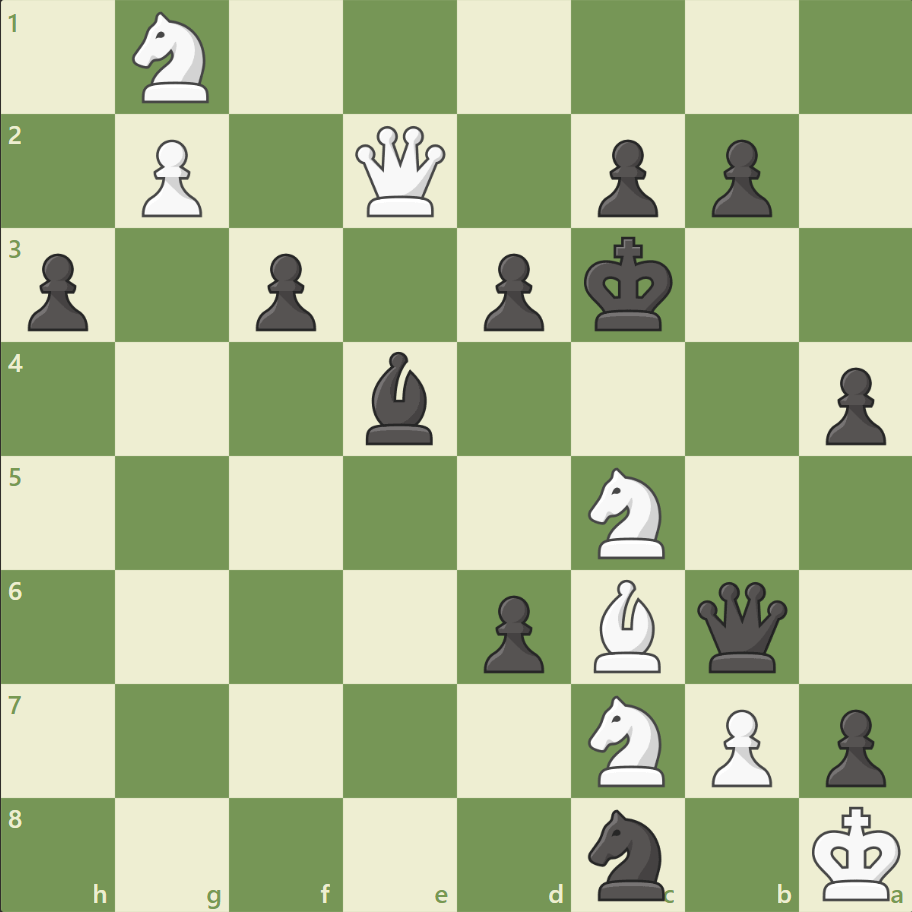B: (585, 574, 669, 676)
K: (806, 798, 906, 906)
N: (124, 7, 222, 110), (579, 688, 676, 791), (579, 461, 676, 564)
P: (701, 700, 776, 791), (133, 132, 208, 223)
Q: (351, 122, 450, 222)
b: (358, 347, 442, 449)
k: (579, 231, 679, 339)
n: (579, 802, 676, 904)
p: (474, 586, 549, 677), (474, 246, 549, 337), (247, 246, 322, 337), (20, 246, 95, 337), (701, 132, 776, 223), (815, 700, 889, 791), (815, 359, 889, 450), (588, 132, 662, 223)
q: (691, 576, 790, 676)
